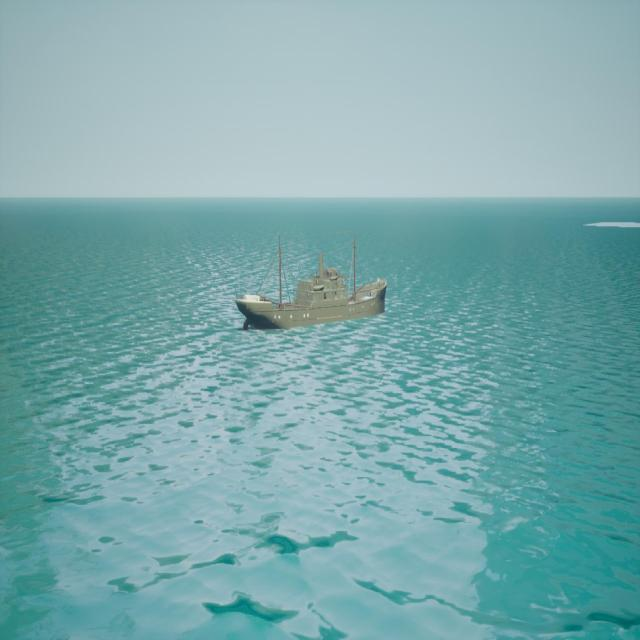fishing ship: (237, 237, 388, 331)
